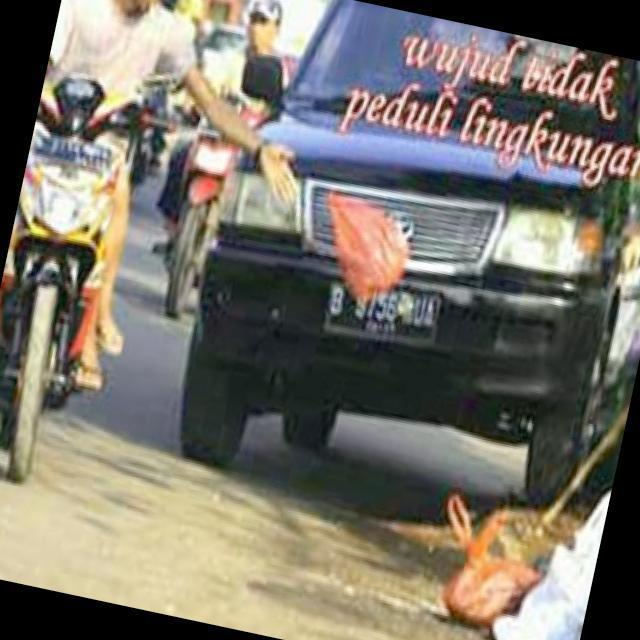garbage: (485, 470, 611, 640), (414, 478, 546, 636), (306, 182, 426, 316)
